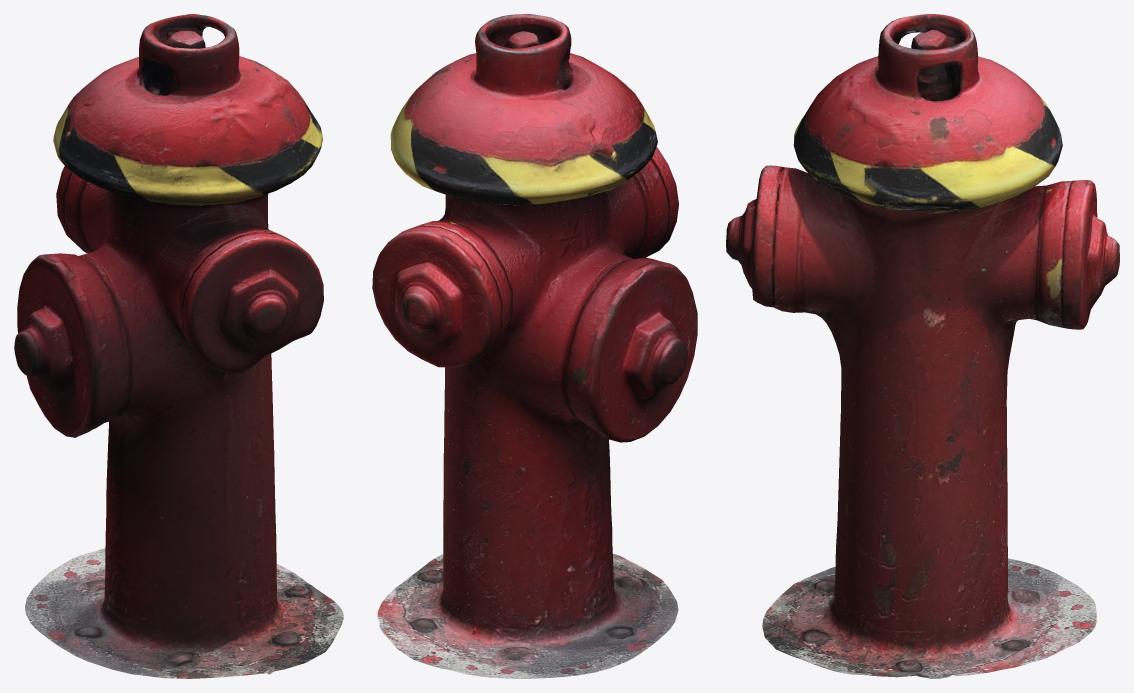
Rendered from FT_XFS_OK_1024.glb.
3 views of the same model, side by side, from view 1: azimuth 30°, elevation 25°; view 2: azimuth 150°, elevation 25°; view 3: azimuth 270°, elevation 25° (orthographic).
Parts seen in each view (by area): view 1: FT_XFS_OK; view 2: FT_XFS_OK; view 3: FT_XFS_OK.
Boxes of the visible parts, x1,y1,x2,y2 form: FT_XFS_OK: [14, 14, 343, 678]; FT_XFS_OK: [372, 14, 697, 678]; FT_XFS_OK: [726, 14, 1119, 678].
Bounding box in the file's own units: 0.2286 × 0.4536 × 0.2742.
1 material, 1 textured.
